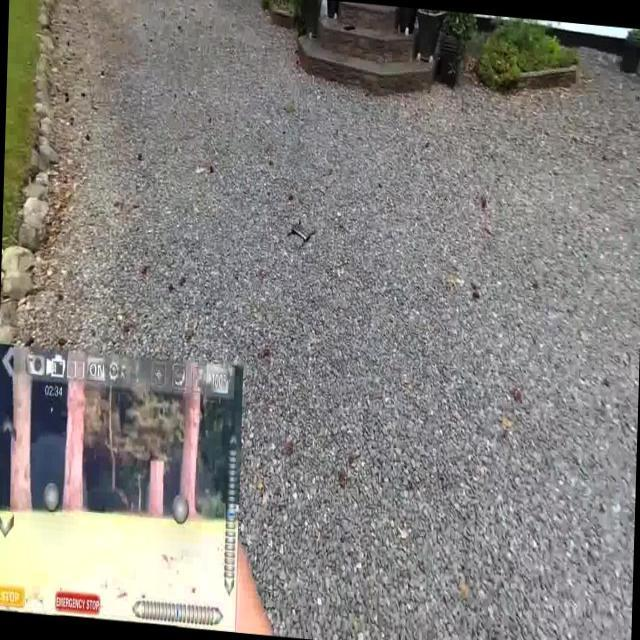drone: (285, 214, 315, 250)
